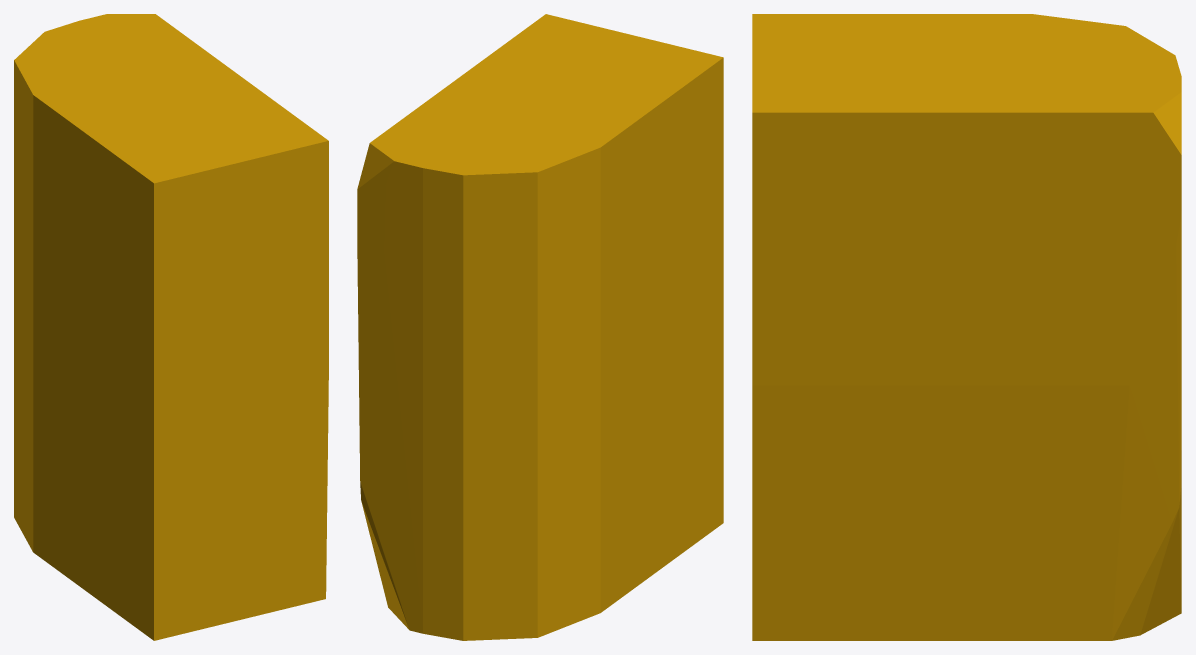
3 renders of one model, left to right at view 1: azimuth 30°, elevation 25°; view 2: azimuth 150°, elevation 25°; view 3: azimuth 270°, elevation 25°, orthographic. The views are drawn at different scales.
Size of the model in its own units: 2.08 by 5.21 by 3.82.
